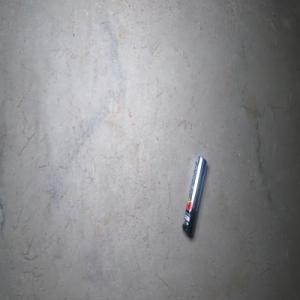Battery: (181, 155, 207, 237)
